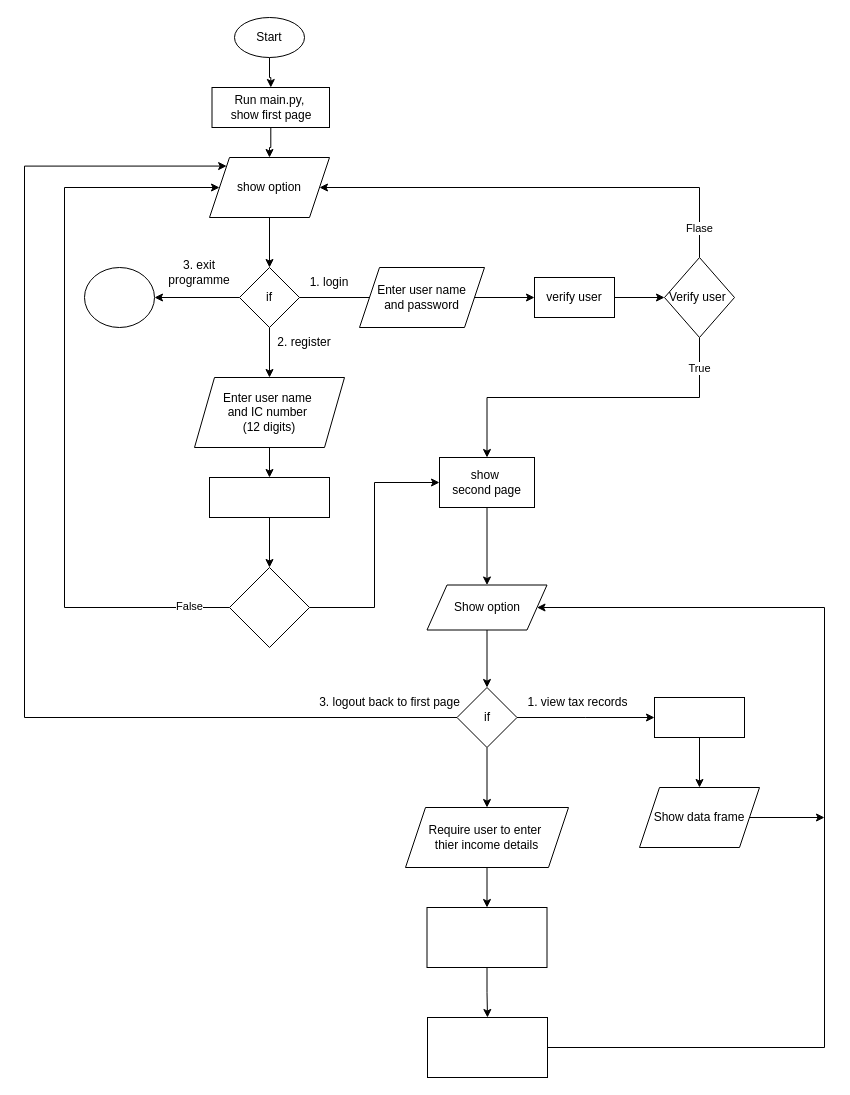
This 850x1095 diagram has some shape labels left out. The centre of each missing label's shape, as x and y in pixels:
Calculate tax: point (486, 937)
End: point (119, 297)
read csv file: point (699, 717)
Register Success: point (269, 607)
save data: point (487, 1047)
Save user data: point (269, 497)
